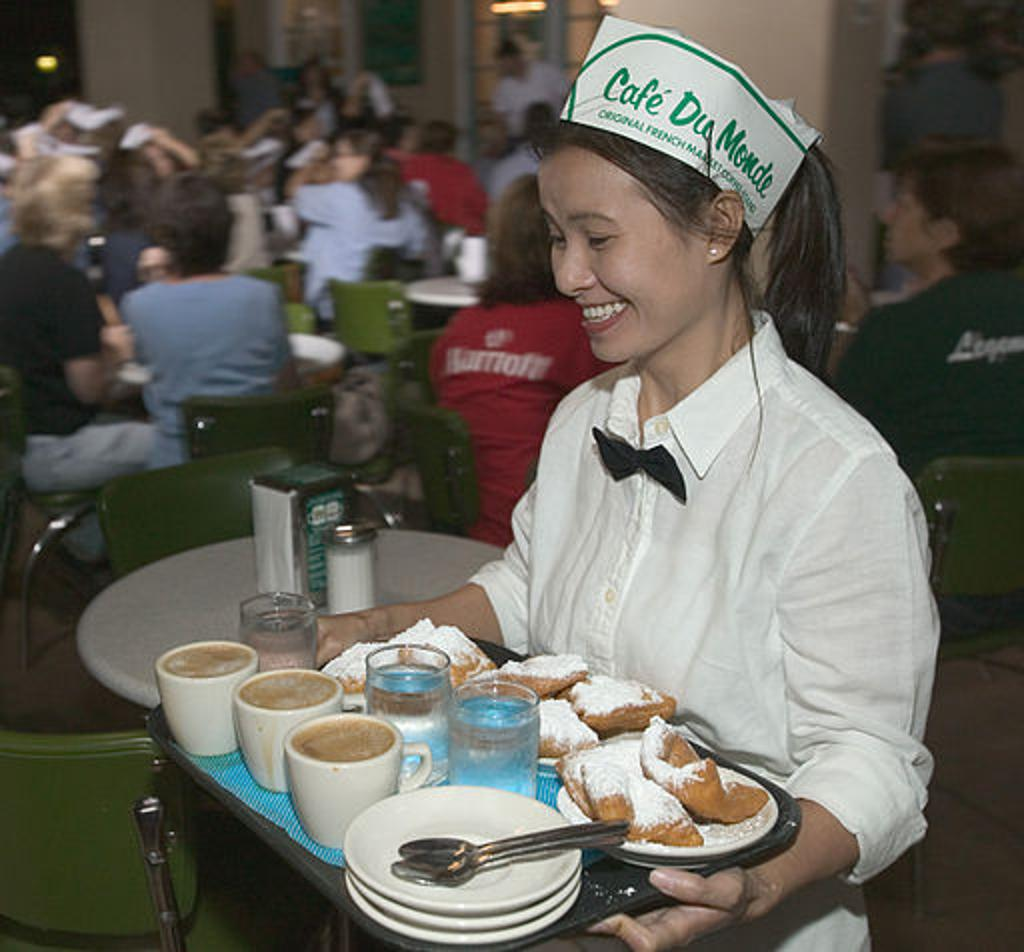face: (534, 144, 706, 362), (878, 178, 942, 264)
